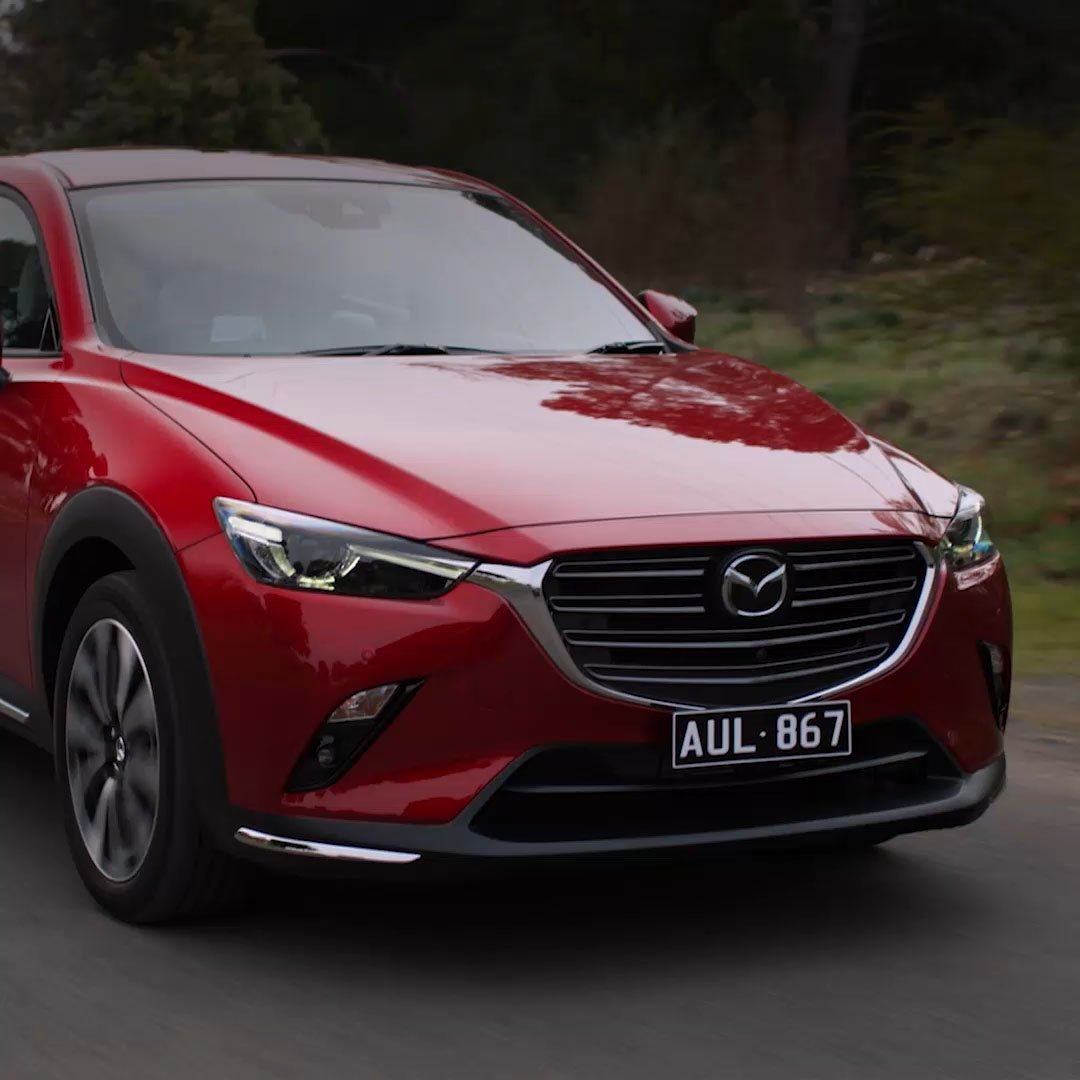car: (4, 144, 1013, 931)
